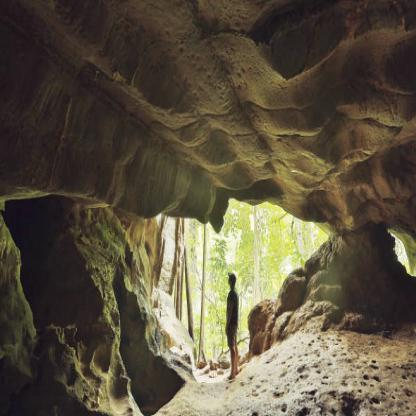Sedimentary_Sandstone: (0, 2, 415, 227), (250, 202, 415, 340), (114, 294, 178, 392)
